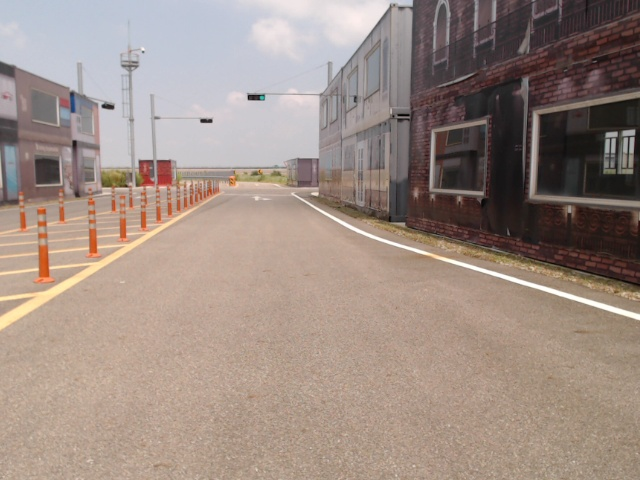green_3: (247, 94, 265, 101)
